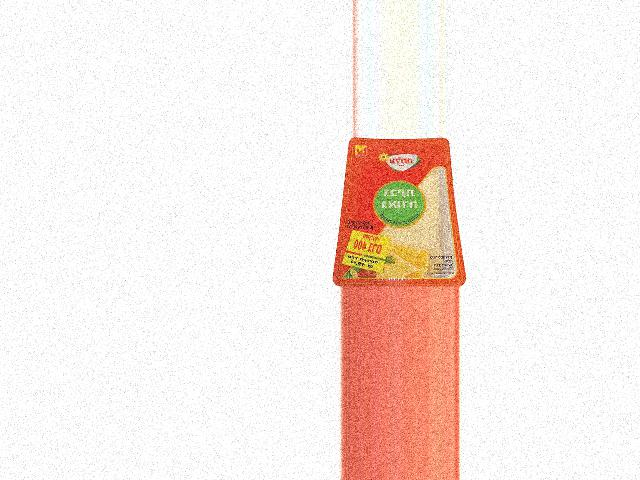cheese: (332, 138, 465, 287)
